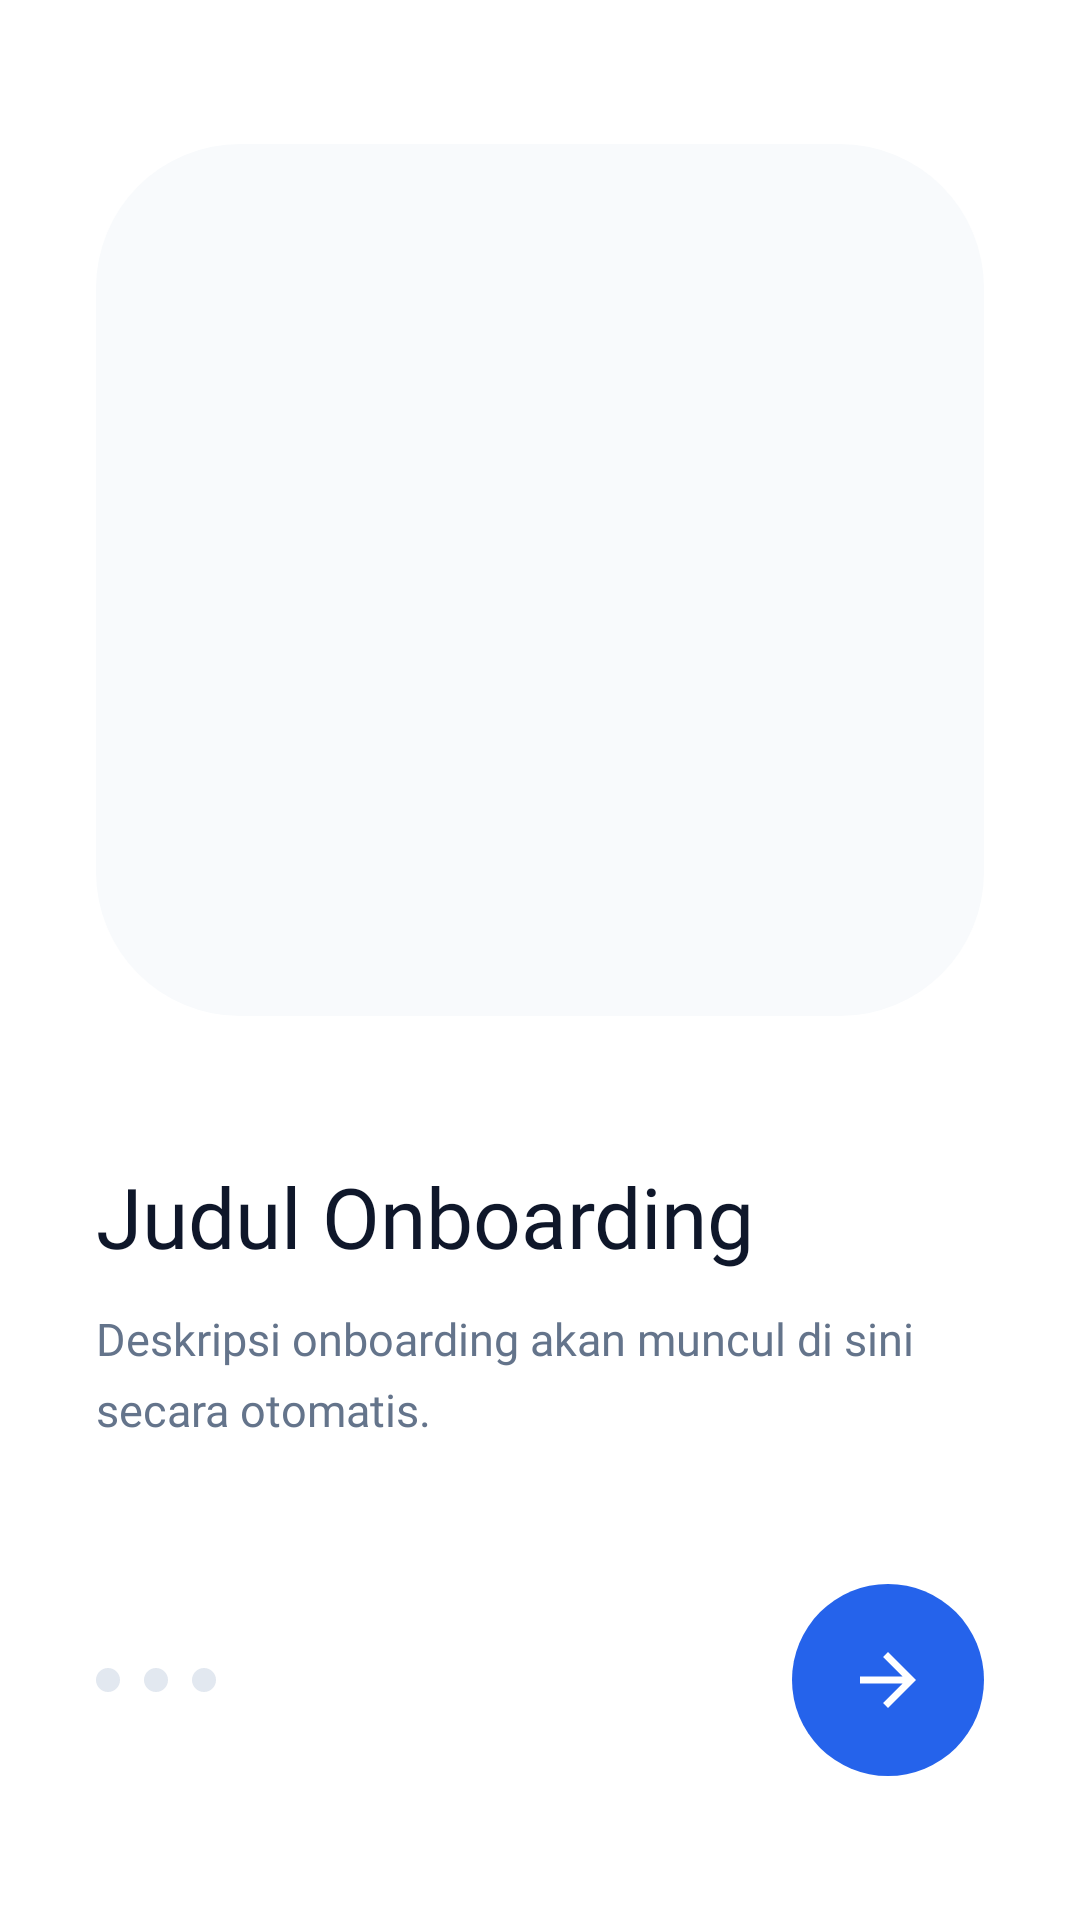

Screen size 1080 x 1920. Icon name, then its center in pixels as (x=x, y=y):
arrow forward: (x=888, y=1680)
